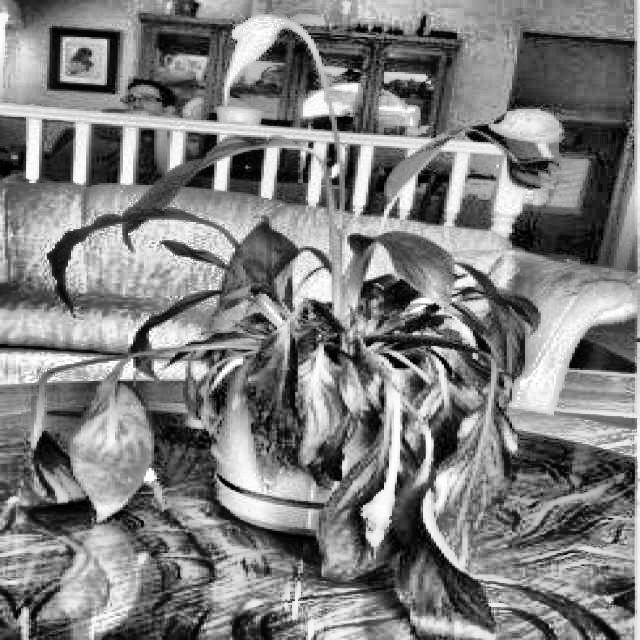plants: (23, 14, 530, 638), (326, 361, 432, 583)
